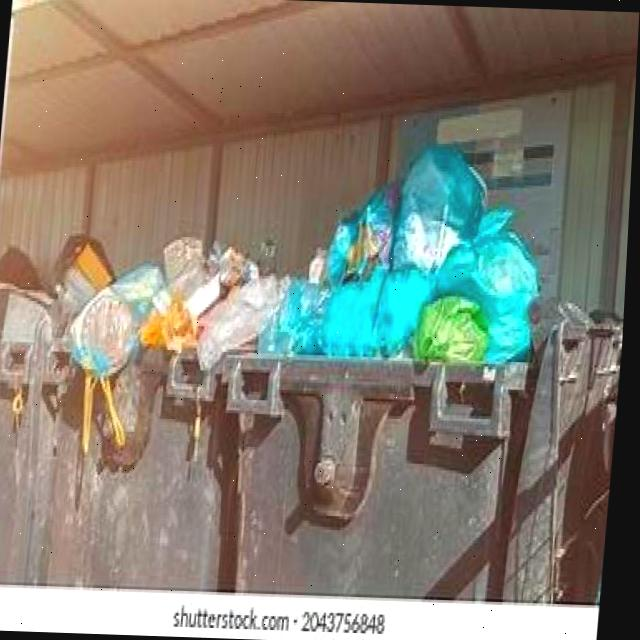Garbage: (57, 144, 540, 451)
Plastic: (208, 238, 261, 293)
Plastic_Bag: (73, 263, 166, 452), (438, 209, 539, 360), (394, 145, 486, 269), (199, 273, 291, 369), (327, 180, 401, 284), (155, 235, 223, 320), (324, 267, 388, 355), (260, 276, 332, 352), (379, 266, 436, 354), (416, 294, 490, 360), (143, 293, 199, 349), (309, 246, 328, 283)
